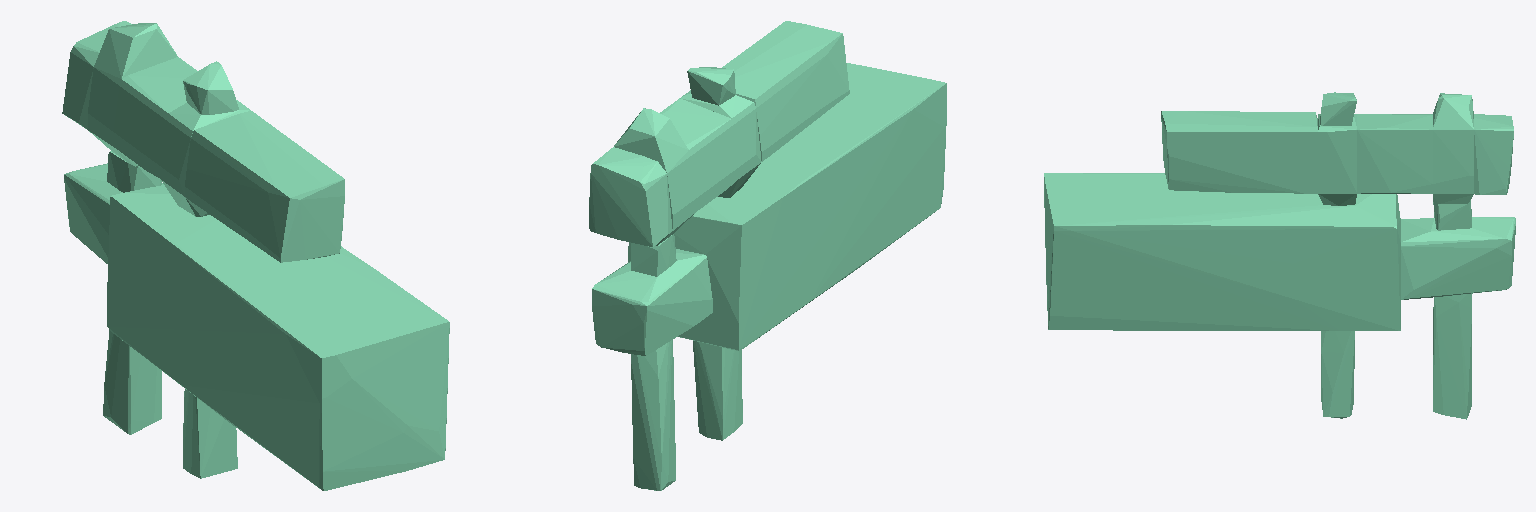
URDF robot description (blob515):
<robot name="blob515">
  <link name="random_obj_515">
    <contact>
      <lateral_friction value="1.0"/>
      <rolling_friction value="0.0"/>
      <inertia_scaling value="3.0"/>
      <contact_cfm value="0.0"/>
      <contact_erp value="1.0"/>
    </contact>
    <inertial>
      <origin rpy="0 0 0" xyz="0 0 0"/>
      <mass value="0.1"/>
      <inertia ixx="1" ixy="0" ixz="0" iyy="1" iyz="0" izz="0"/>
    </inertial>
    <visual>
      <origin rpy="0 0 0" xyz="0 0 0"/>
      <geometry>
        <mesh filename="515.obj" scale="0.015 0.015 0.015"/>
      </geometry>
      <material name="blockmat">
        <color rgba="0.59 0.91 0.76 1"/>
      </material>
    </visual>
    <collision>
      <origin rpy="0 0 0" xyz="0 0 0"/>
      <geometry>
        <mesh filename="515.obj" scale="0.015 0.015 0.015"/>
      </geometry>
    </collision>
  </link>
</robot>

--- Facts derived from the render (not from the file) ---
3 views of the same robot in one strip: view 1: azimuth 30°, elevation 25°; view 2: azimuth 150°, elevation 25°; view 3: azimuth 270°, elevation 25° (orthographic).
Model blob515 with 1 links and 0 joints (none), rooted at random_obj_515, posed every joint at zero.
Links seen in each view (by area): view 1: random_obj_515; view 2: random_obj_515; view 3: random_obj_515.
Link boxes in pixels (x1,y1,x2,y2): random_obj_515: (62, 21, 449, 490); random_obj_515: (589, 21, 946, 490); random_obj_515: (1044, 92, 1515, 419).
Size in the robot's own frame: 0.0325 by 0.123 by 0.093 metres.
Meshes: 1 distinct files referenced, 1 mesh visuals loaded (1 OBJ).